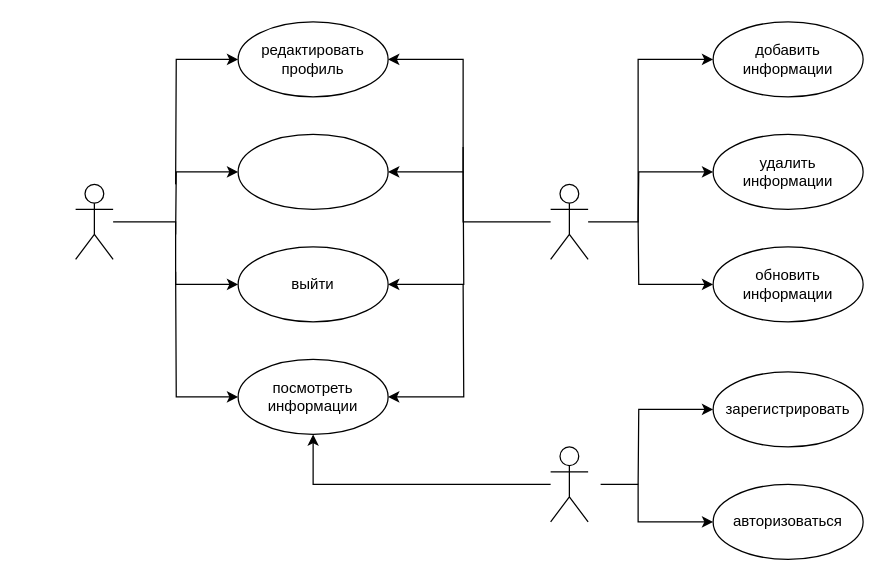
This 885x581 diagram has some shape labels left out. The box of each missing label's shape, as (x1, y1, x2, y2) in pixels:
админстратор: (549, 183, 588, 259)
гость: (549, 446, 588, 522)
зарегистрированный пользователь: (74, 183, 113, 259)
купить билеты: (237, 133, 388, 209)
